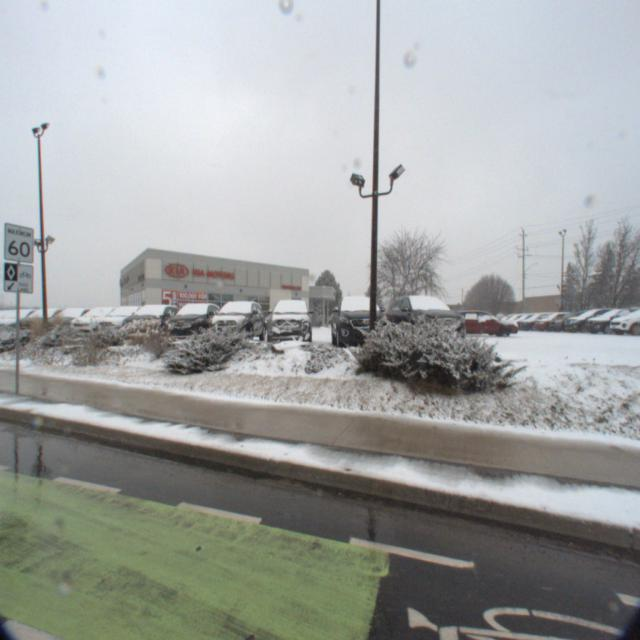Car: (380, 286, 476, 354), (328, 286, 393, 352), (157, 299, 228, 345), (111, 302, 188, 344), (202, 297, 266, 347), (85, 303, 165, 342), (263, 294, 313, 348), (59, 306, 135, 341), (30, 306, 107, 340), (441, 308, 519, 339), (556, 305, 626, 332), (514, 308, 568, 331)
